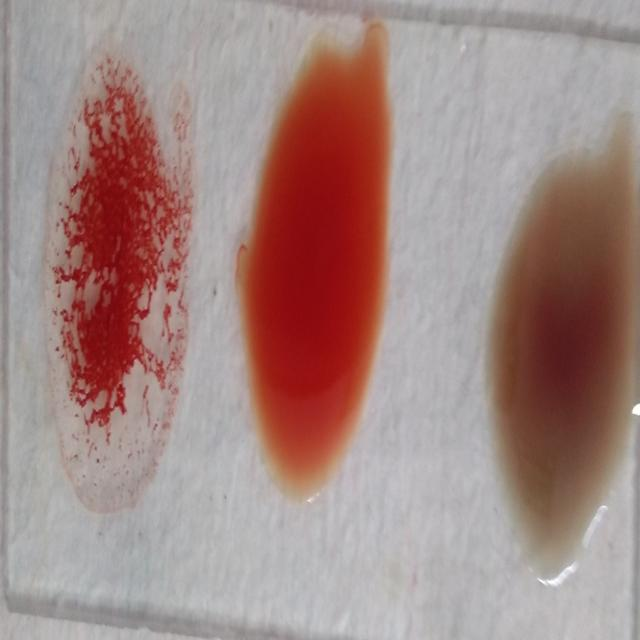D: (45, 66, 185, 506)
